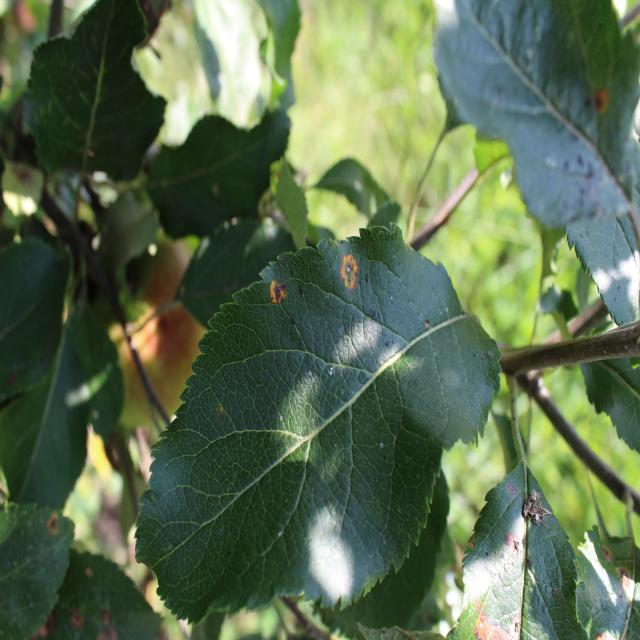Rust: (253, 253, 289, 325), (335, 238, 368, 316), (36, 490, 71, 551)
